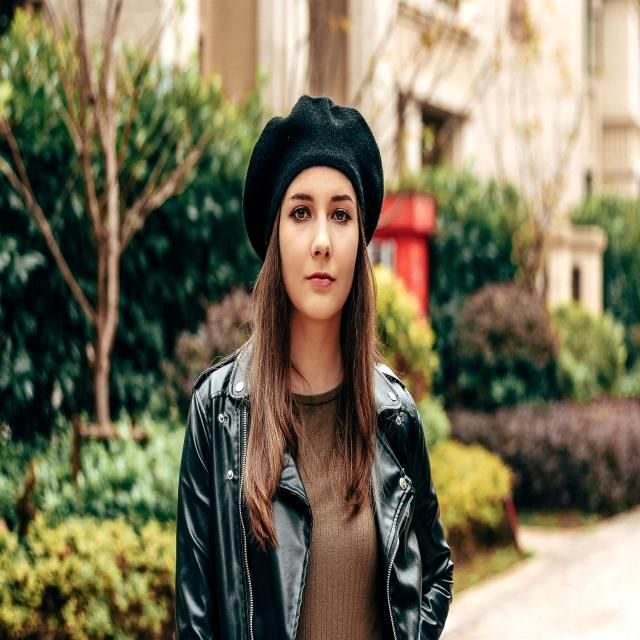no_hard_hat: (243, 95, 384, 259)
person: (176, 96, 453, 640)
